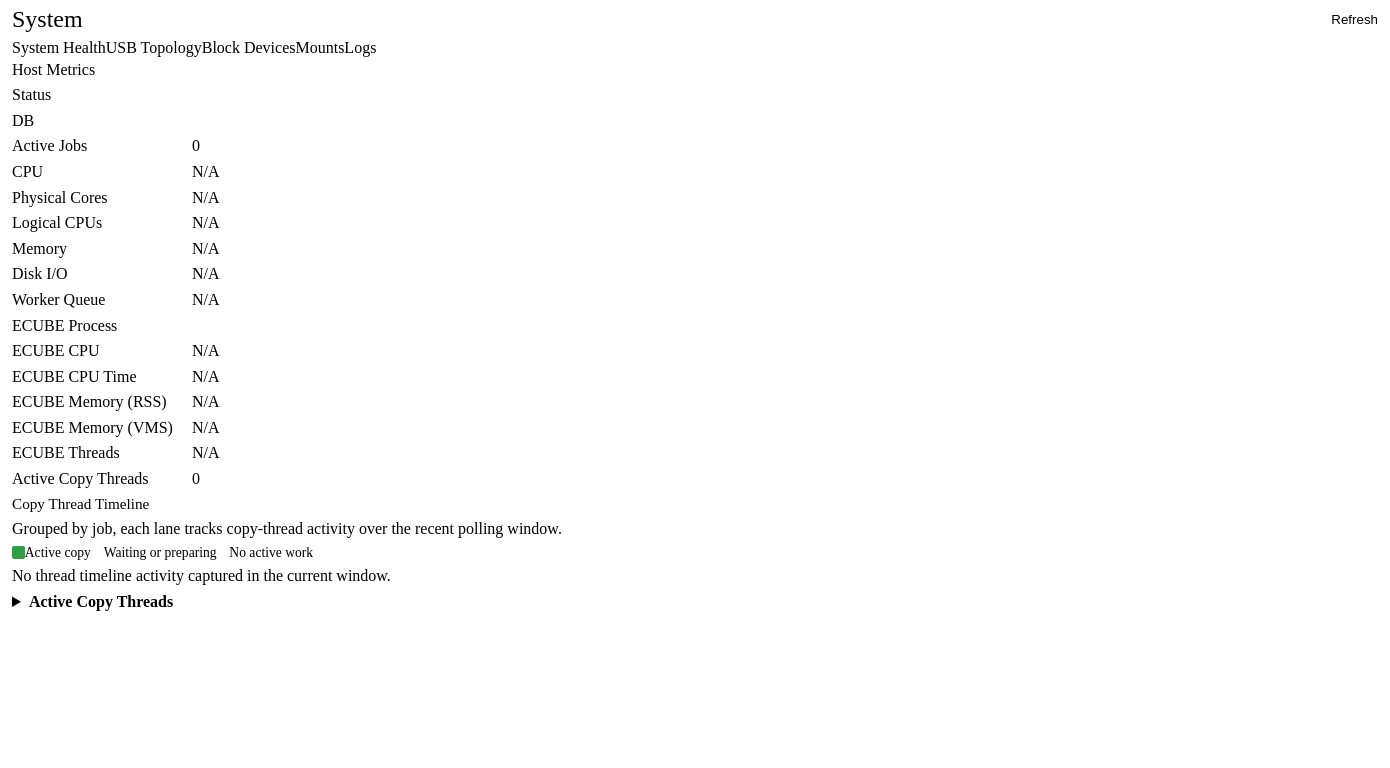
SystemView USB topology tab › renders the shared tab strip and supports keyboard navigation
Press ArrowRight in the tab "System Health", box [12,38,106,58]
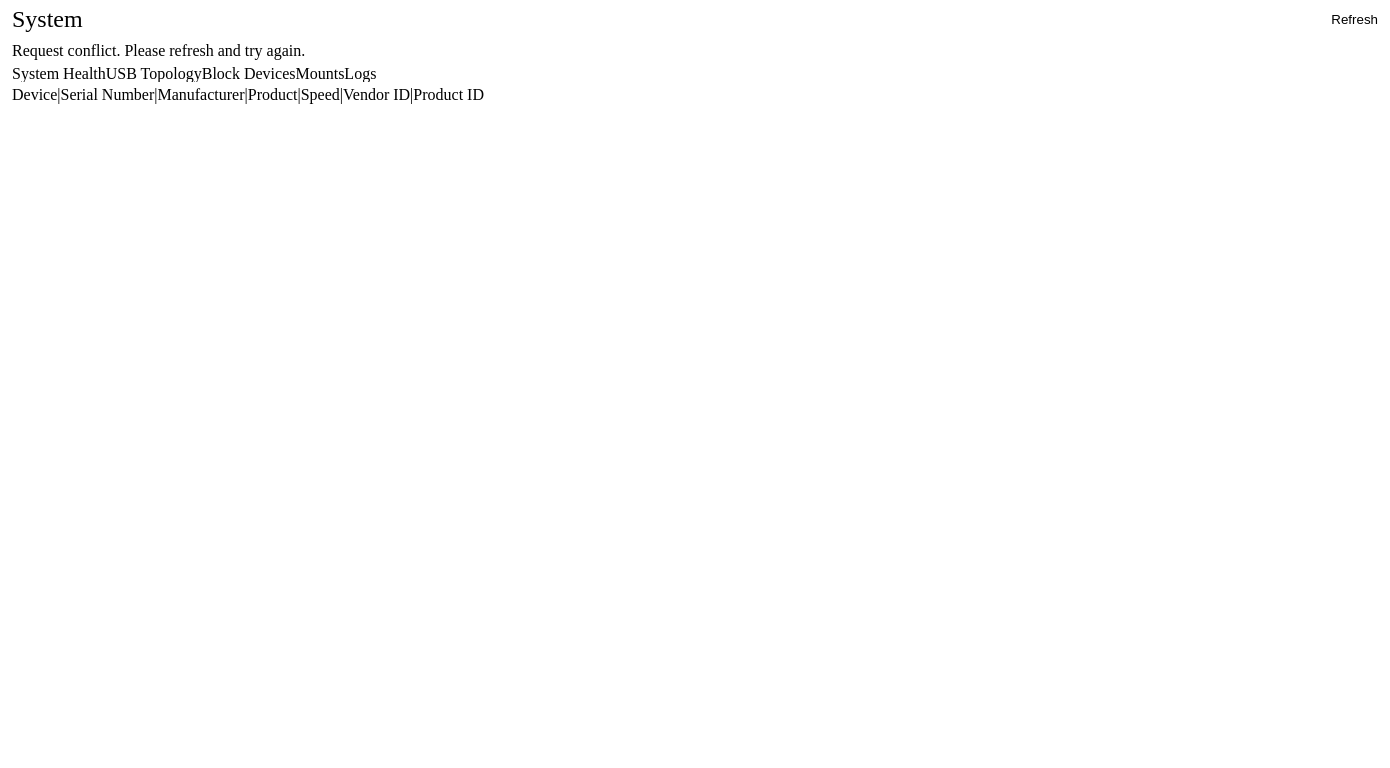
Now the tab "USB Topology" is selected, box [106,64,202,82]
Click the tab "Mounts" at coordinates (320, 74), box [296,64,344,83]
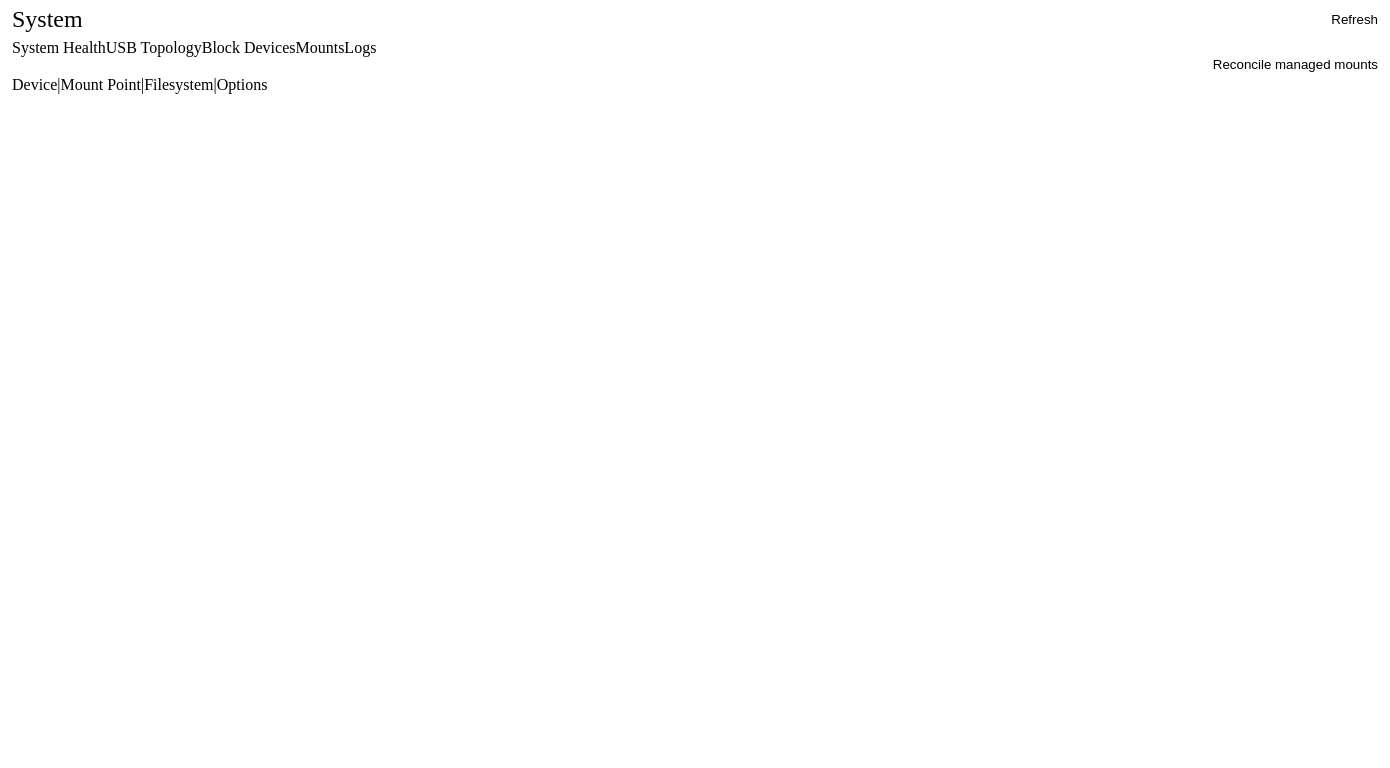
Now the button "Reconcile managed mounts" is shown, box [1213,57,1378,72]
